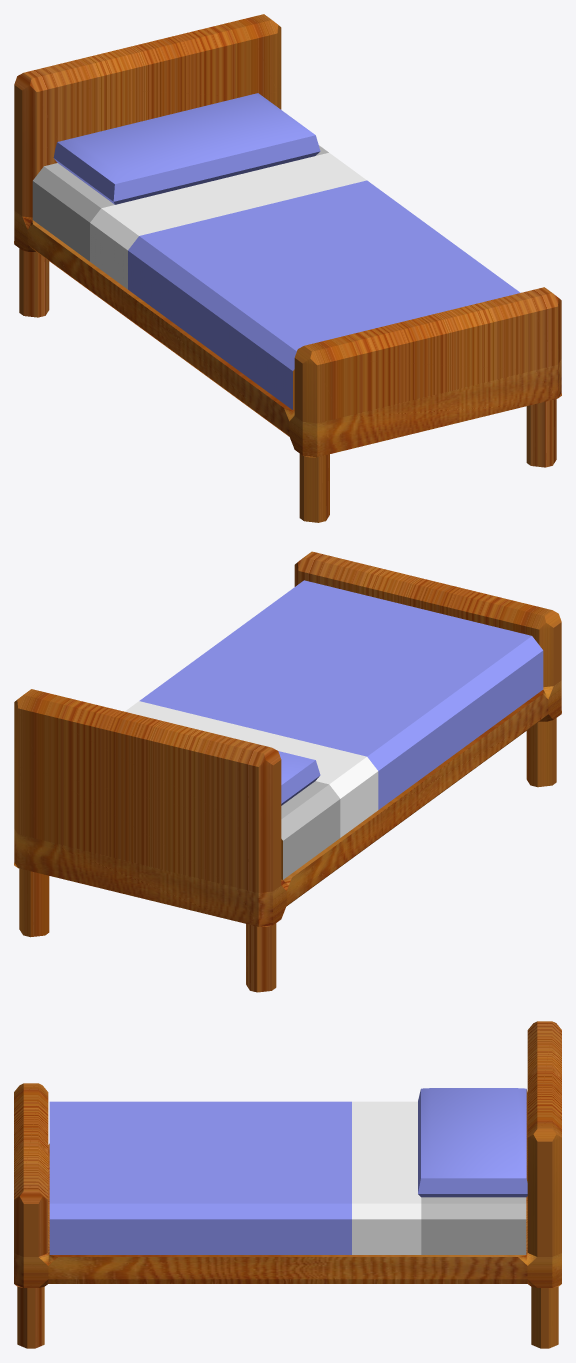
The model's file is bed.fbx.
The picture shows the model from 3 angles, top to bottom: view 1: azimuth 30°, elevation 25°; view 2: azimuth 150°, elevation 25°; view 3: azimuth 270°, elevation 25°; orthographic projection. The views are drawn at different scales.
Parts seen in each view (by area): view 1: bed; view 2: bed; view 3: bed.
Boxes of the visible parts, x1,y1,x2,y2 form: bed: (14, 14, 561, 522); bed: (14, 551, 561, 992); bed: (14, 1021, 561, 1348).
Size of the model in its own units: 80 by 70 by 160.
